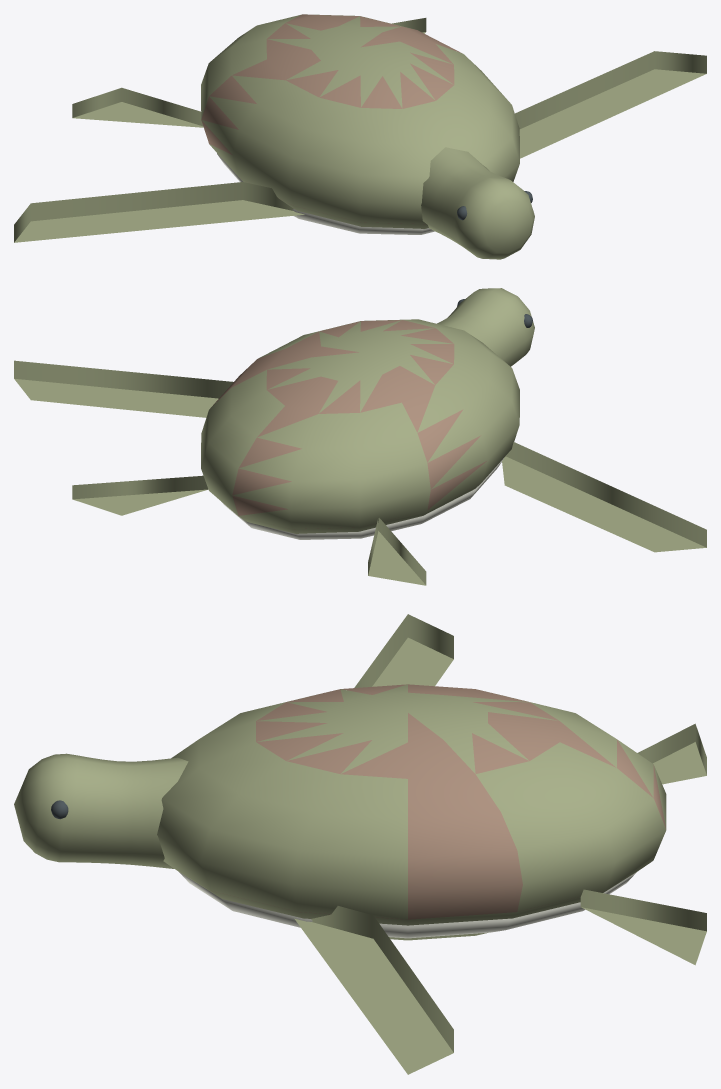
The model's file is turtle.glb.
3 views of the same model, one above another, from view 1: azimuth 30°, elevation 25°; view 2: azimuth 150°, elevation 25°; view 3: azimuth 270°, elevation 25° (orthographic). The views are drawn at different scales.
Parts seen in each view (by area): view 1: green-sea-turtle; view 2: green-sea-turtle; view 3: green-sea-turtle.
Boxes of the visible parts, x1,y1,x2,y2 form: green-sea-turtle: [14, 14, 706, 259]; green-sea-turtle: [14, 288, 706, 585]; green-sea-turtle: [14, 614, 706, 1074].
Size of the model in its own units: 1.57 by 0.3337 by 1.05.
